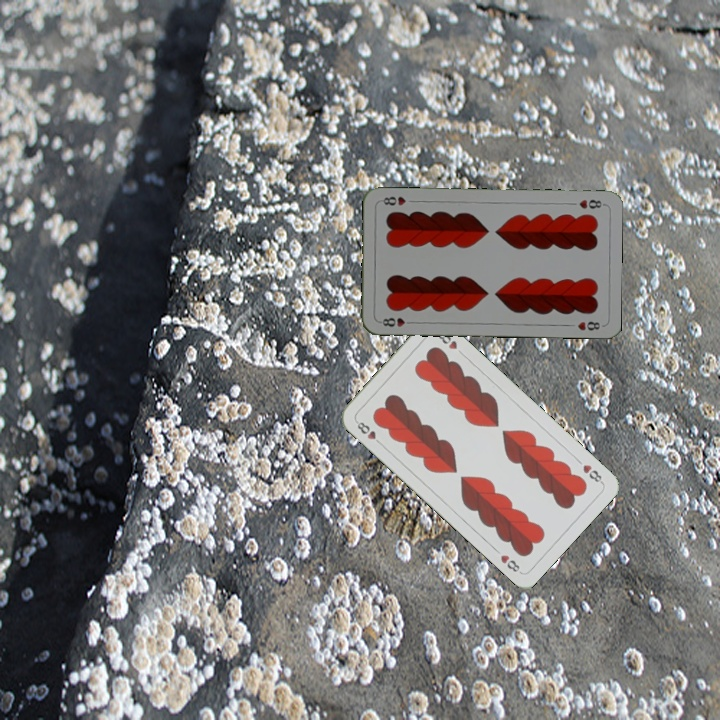H8: (352, 417, 385, 448), (579, 460, 606, 486), (376, 314, 416, 329), (575, 196, 606, 211)
